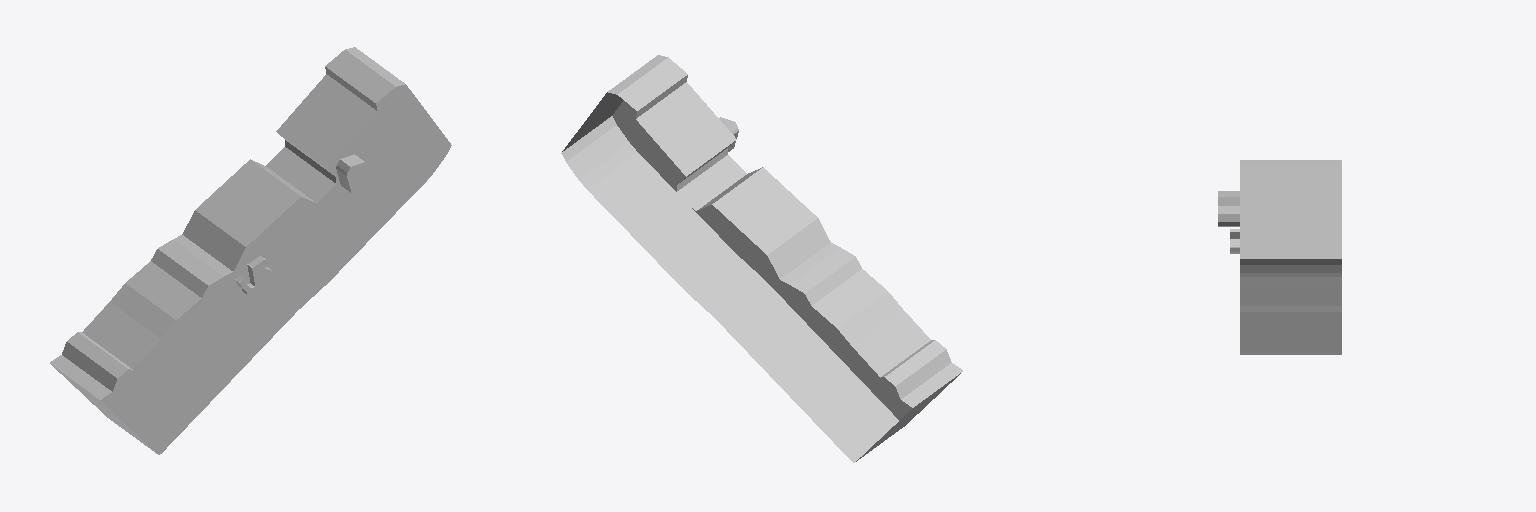
The model's file is TextureModel_BLD_Body_5.obj.
3 views of the same model, side by side, from view 1: azimuth 30°, elevation 25°; view 2: azimuth 150°, elevation 25°; view 3: azimuth 270°, elevation 25° (orthographic).
Bounding box in the file's own units: 69 × 58.25 × 21.